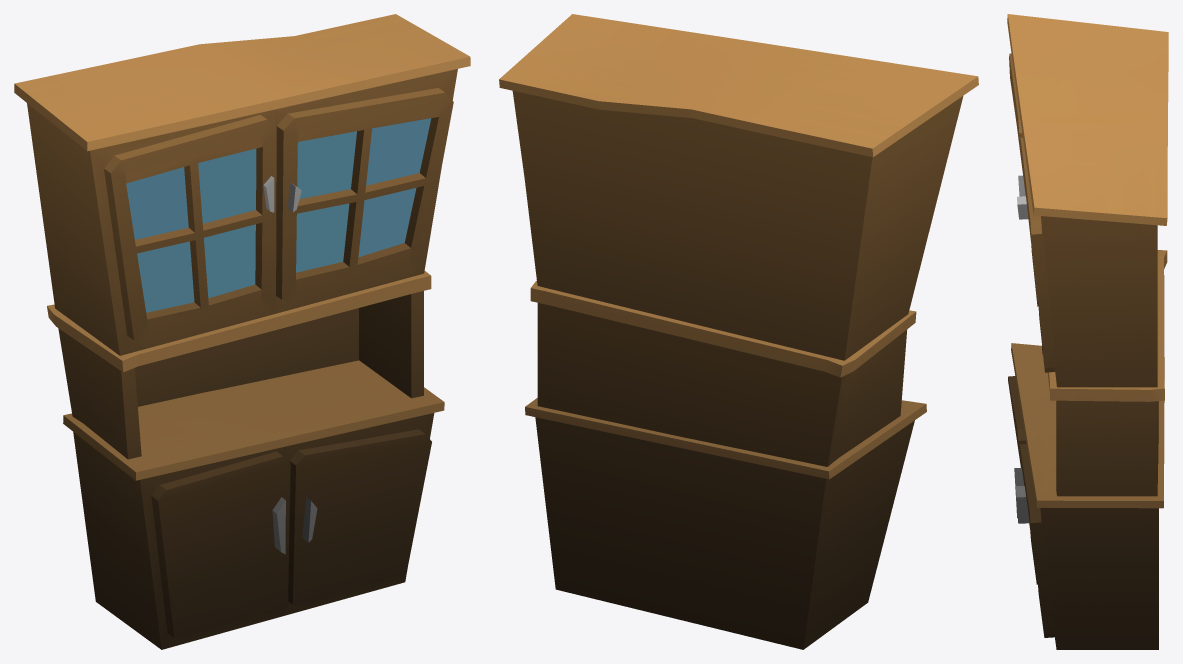
Rendered from credenza.fbx.
The picture shows the model from 3 angles, left to right: view 1: azimuth 30°, elevation 25°; view 2: azimuth 150°, elevation 25°; view 3: azimuth 270°, elevation 25°; orthographic projection. The views are drawn at different scales.
Parts seen in each view (by area): view 1: SM_credenza; view 2: SM_credenza; view 3: SM_credenza.
Boxes of the visible parts, bbox=[...] form: SM_credenza: bbox=[14, 14, 470, 649]; SM_credenza: bbox=[499, 14, 978, 649]; SM_credenza: bbox=[1007, 14, 1168, 649].
Bounding box in the file's own units: 349 × 456 × 138.
